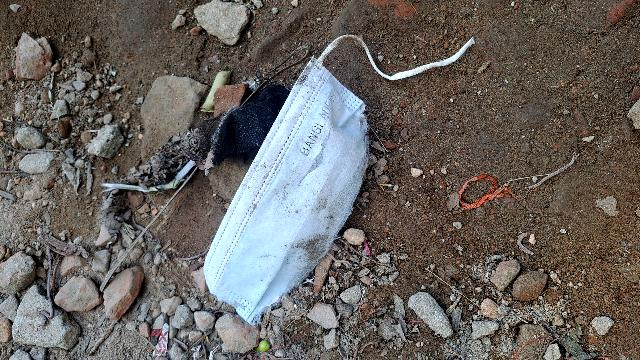mask: (198, 57, 397, 327)
